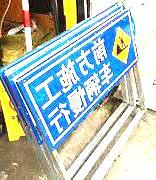sign: (32, 22, 134, 146)
